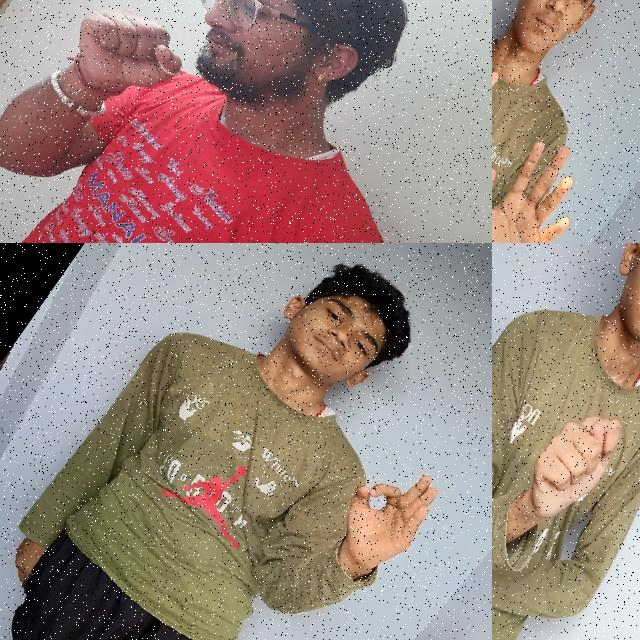Dulya: (492, 390, 640, 561)
Fist Mouth: (41, 0, 447, 228)
Moutza: (492, 113, 609, 243), (492, 5, 535, 223)
Okay: (308, 432, 460, 596)
